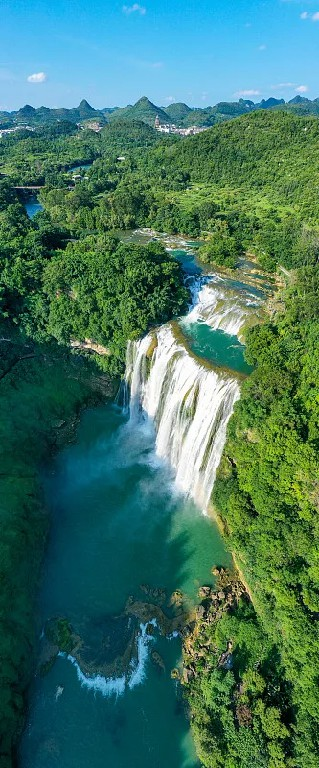Huangguoshu: (123, 279, 247, 514)
